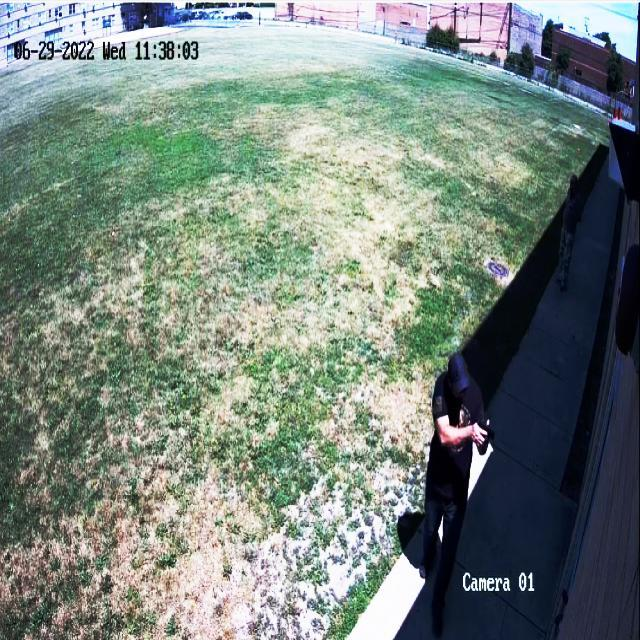Gun: (464, 415, 511, 464)
